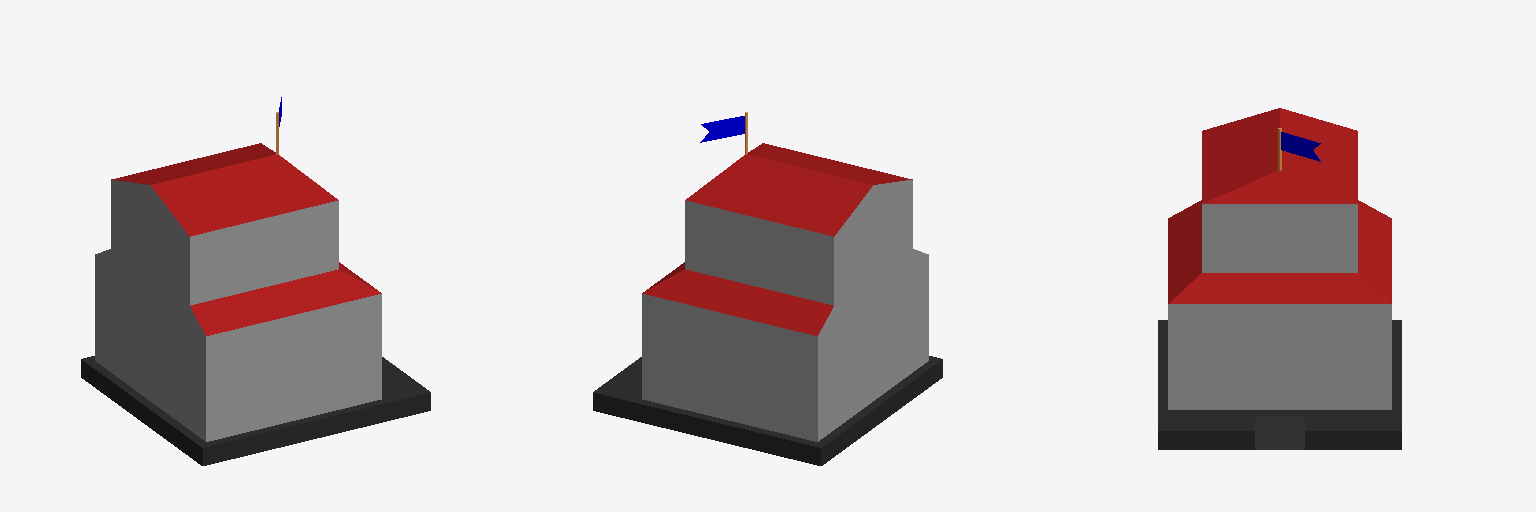
The model's file is BCityHall1.obj.
3 views of the same model, side by side, from view 1: azimuth 30°, elevation 25°; view 2: azimuth 150°, elevation 25°; view 3: azimuth 270°, elevation 25° (orthographic).
Visible parts, largest first — view 1: BCityHall1; view 2: BCityHall1; view 3: BCityHall1.
Boxes of the visible parts, x1,y1,x2,y2 form: BCityHall1: [81, 97, 430, 465]; BCityHall1: [593, 112, 942, 465]; BCityHall1: [1158, 108, 1401, 449].
Bounding box in the file's own units: 5.2 × 6 × 4.8.